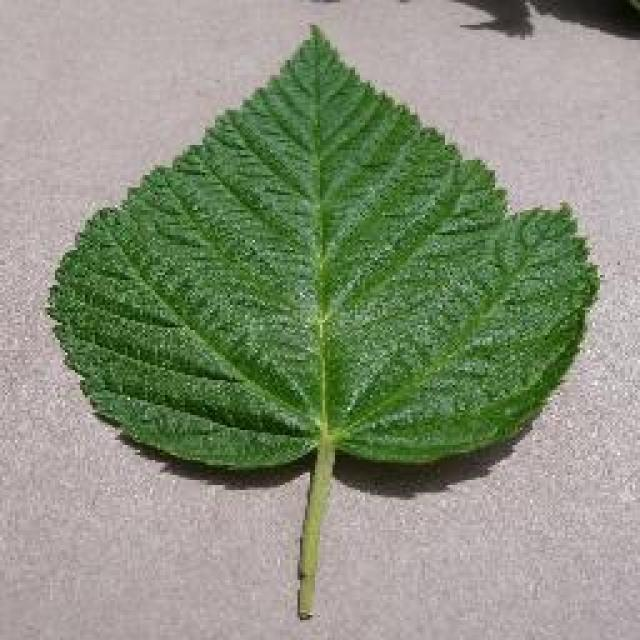Ras_healthy: (69, 89, 581, 458)
